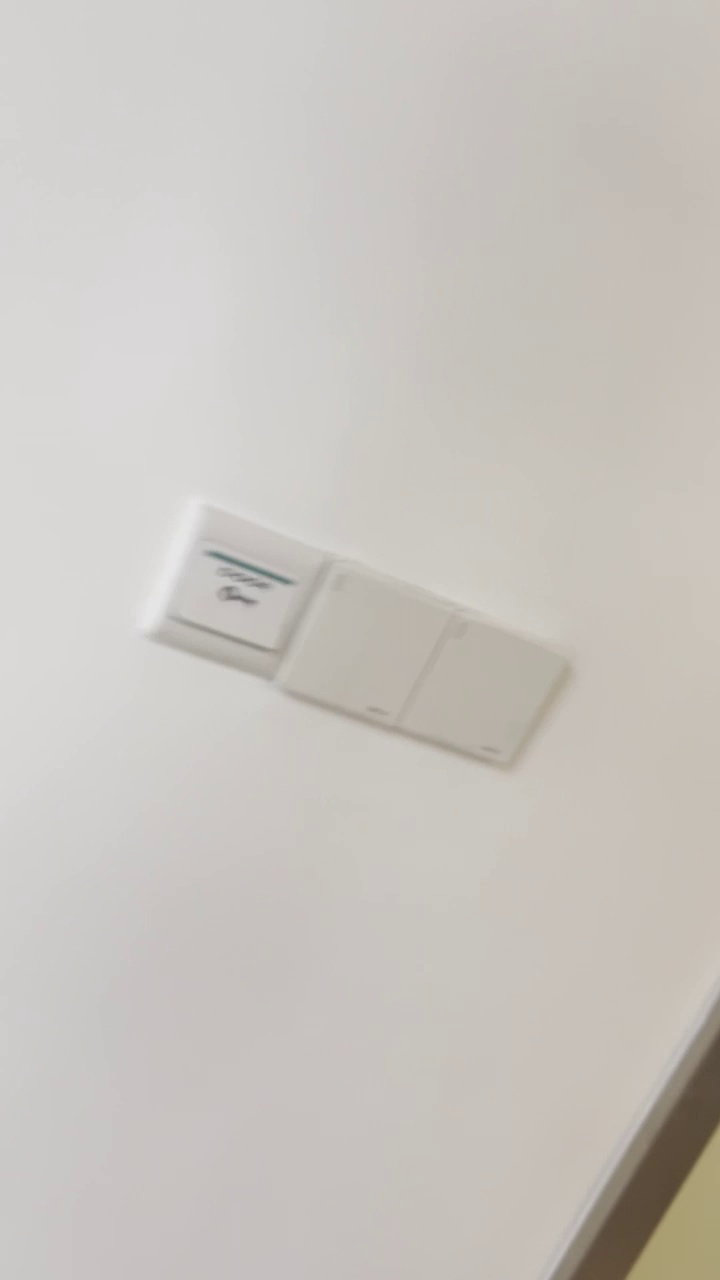button: (270, 555, 460, 729), (400, 608, 581, 774)
